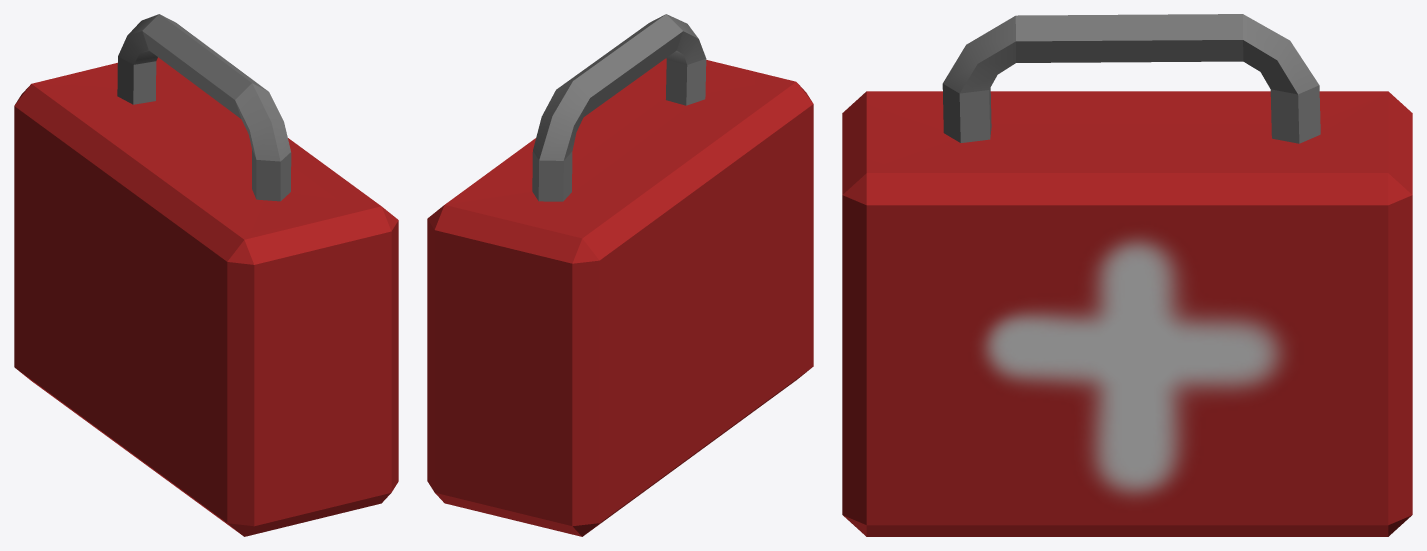
File: kit.obj
The picture shows the model from 3 angles, left to right: view 1: azimuth 30°, elevation 25°; view 2: azimuth 150°, elevation 25°; view 3: azimuth 270°, elevation 25°; orthographic projection. The views are drawn at different scales.
Parts seen in each view (by area): view 1: pCube3; view 2: pCube3; view 3: pCube3.
Boxes of the visible parts, x1,y1,x2,y2 form: pCube3: (14, 14, 398, 536); pCube3: (427, 14, 813, 536); pCube3: (842, 14, 1412, 536).
Size of the model in its own units: 3.18 by 6.98 by 7.49.
Materials: 1 (1 with a texture image).
